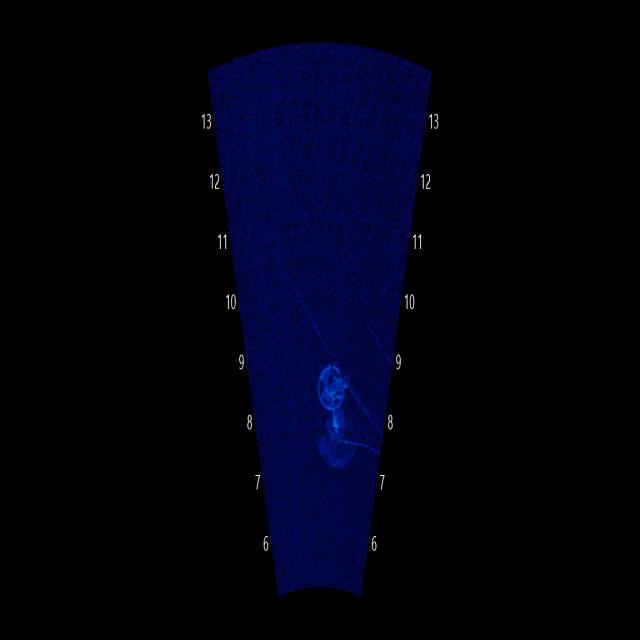circle: (303, 340, 361, 424)
